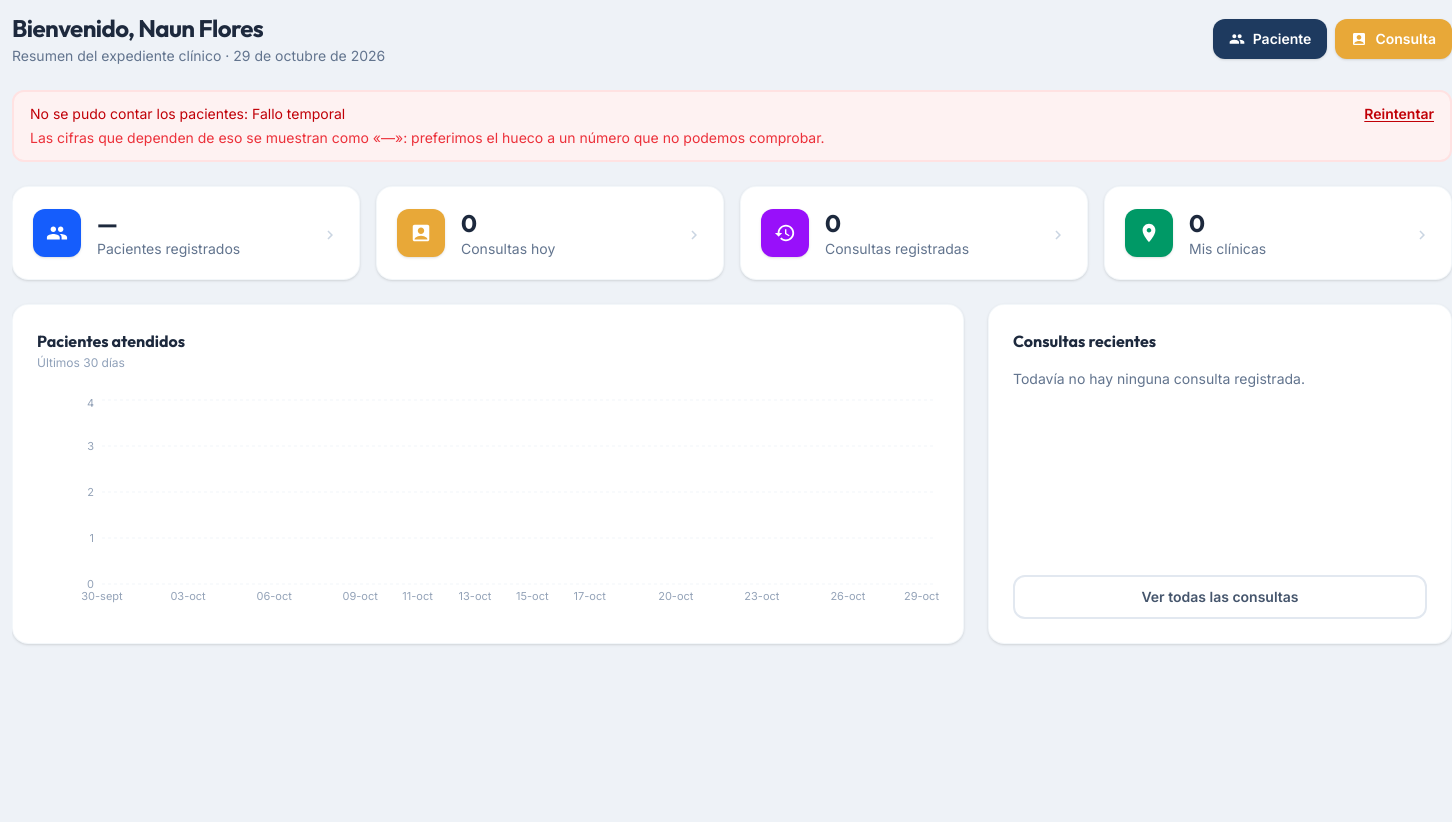
Test: panel · lo que no se puede saber › reintentar vuelve a pedirlo todo y las cifras se recuperan
This screenshot has width=1452, height=822.
Click the button "Reintentar".
click(1399, 114)  # box x1=1364 y1=104 x2=1434 y2=124
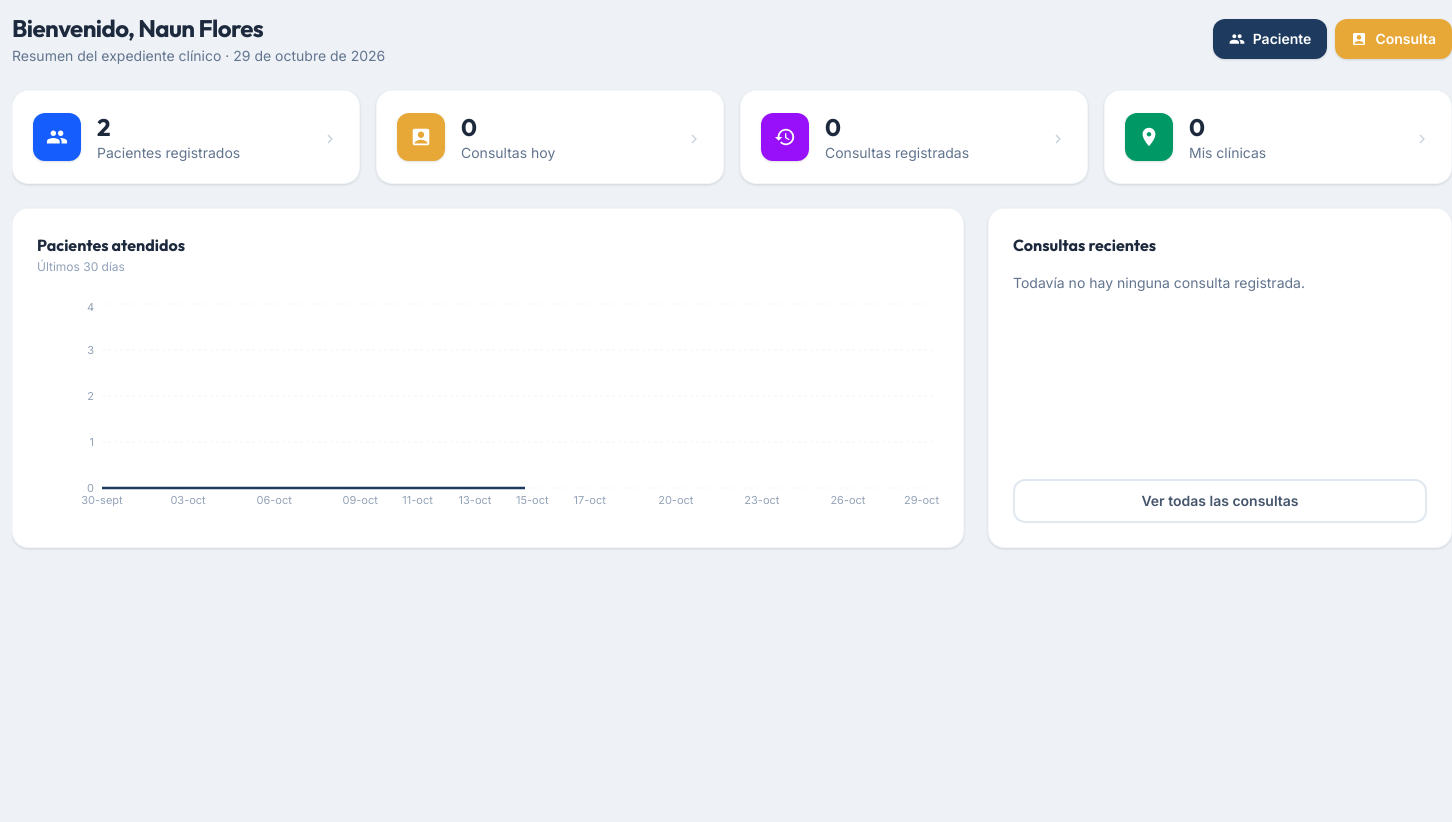
Expected: the message is gone
